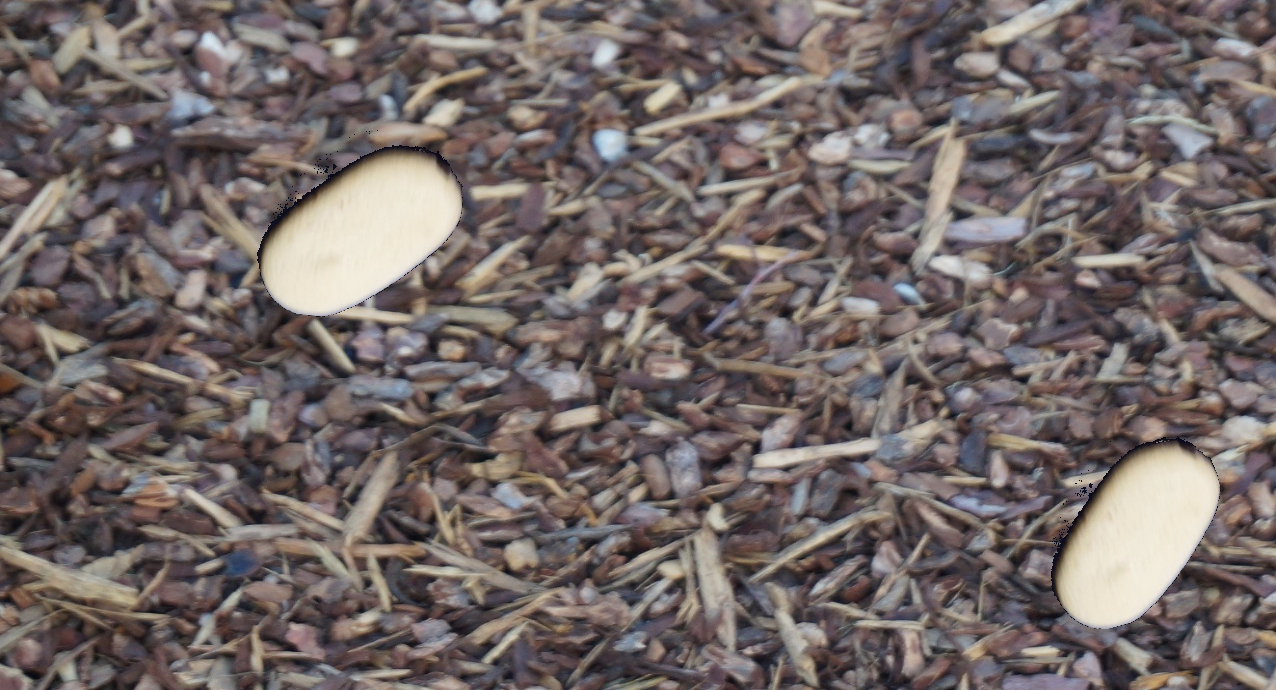test: (1017, 414, 1248, 640), (248, 115, 471, 332)
